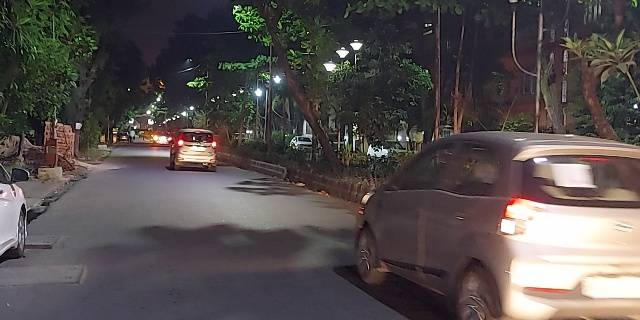Car: (356, 130, 640, 320), (170, 129, 215, 170)
